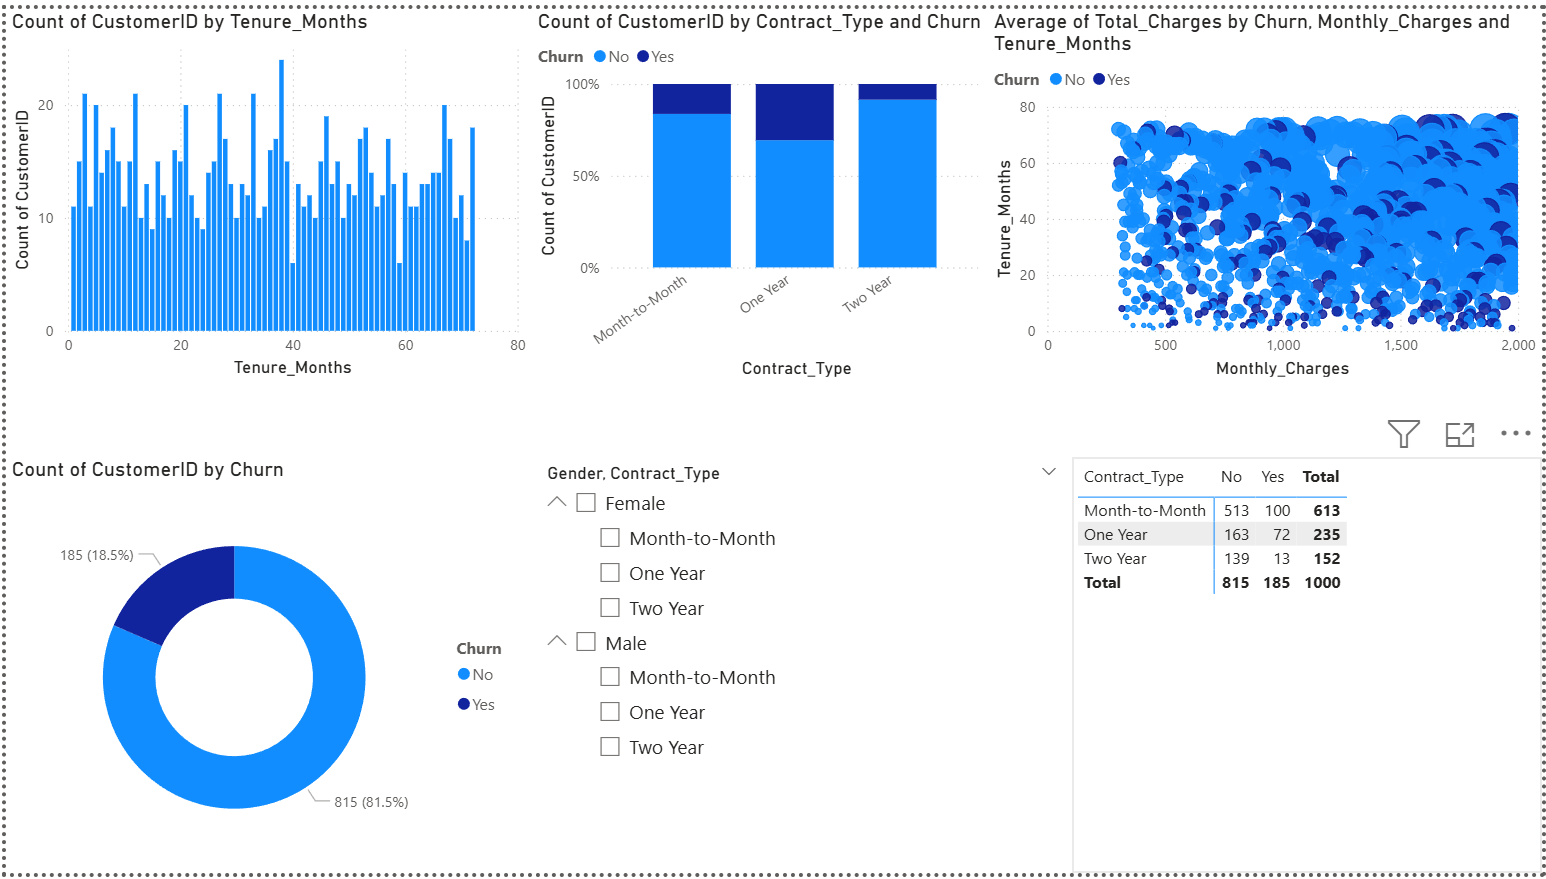

Layout of this report page (visuals, bound fields, positions):
{"tool":"powerbi","page":{"name":"Customer Churn Analysis - Qusetions","canvas":[1280,720],"ordinal":4},"visuals":[{"type":"clusteredColumnChart","fields":{"Category":["Customer_Churn_Data.Tenure_Months"],"Y":["CountNonNull(Customer_Churn_Data.CustomerID)"]},"box":[0,0,438.3,311.7],"z":0},{"type":"hundredPercentStackedColumnChart","fields":{"Category":["Customer_Churn_Data.Contract_Type"],"Y":["CountNonNull(Customer_Churn_Data.CustomerID)"],"Series":["Customer_Churn_Data.Churn"]},"box":[438.3,0,380,311.7],"z":1000},{"type":"scatterChart","fields":{"Y":["Customer_Churn_Data.Tenure_Months"],"Series":["Customer_Churn_Data.Churn"],"Size":["Avg(Customer_Churn_Data.Total_Charges)"],"X":["Customer_Churn_Data.Monthly_Charges"]},"box":[818.3,0,461.7,311.7],"z":2000},{"type":"donutChart","fields":{"Category":["Customer_Churn_Data.Churn"],"Y":["CountNonNull(Customer_Churn_Data.CustomerID)"]},"box":[0,373.3,438.3,348.3],"z":3000},{"type":"slicer","fields":{"Values":["Customer_Churn_Data.Gender","Customer_Churn_Data.Contract_Type"]},"box":[438.3,373.3,450,308.3],"z":4000},{"type":"pivotTable","fields":{"Rows":["Customer_Churn_Data.Contract_Type"],"Columns":["Customer_Churn_Data.Churn"],"Values":["CountNonNull(Customer_Churn_Data.CustomerID)"]},"box":[888.3,373.3,391.7,346.7],"z":5000}]}

Visuals, with their boxes in screenshot pixels (x1, y1, x2, y2), scaled from the page's 1280x720 canvas onto the 1546x879 screenshot:
clusteredColumnChart - Customer_Churn_Data.Tenure_Months x CountNonNull(Customer_Churn_Data.CustomerID): x1=0 y1=0 x2=529 y2=381
hundredPercentStackedColumnChart - Customer_Churn_Data.Contract_Type x CountNonNull(Customer_Churn_Data.CustomerID): x1=529 y1=0 x2=988 y2=381
scatterChart - Customer_Churn_Data.Tenure_Months x Customer_Churn_Data.Churn: x1=988 y1=0 x2=1545 y2=381
donutChart - Customer_Churn_Data.Churn x CountNonNull(Customer_Churn_Data.CustomerID): x1=0 y1=456 x2=529 y2=878
slicer - Customer_Churn_Data.Gender x Customer_Churn_Data.Contract_Type: x1=529 y1=456 x2=1073 y2=832
pivotTable - Customer_Churn_Data.Contract_Type x Customer_Churn_Data.Churn: x1=1073 y1=456 x2=1545 y2=878
